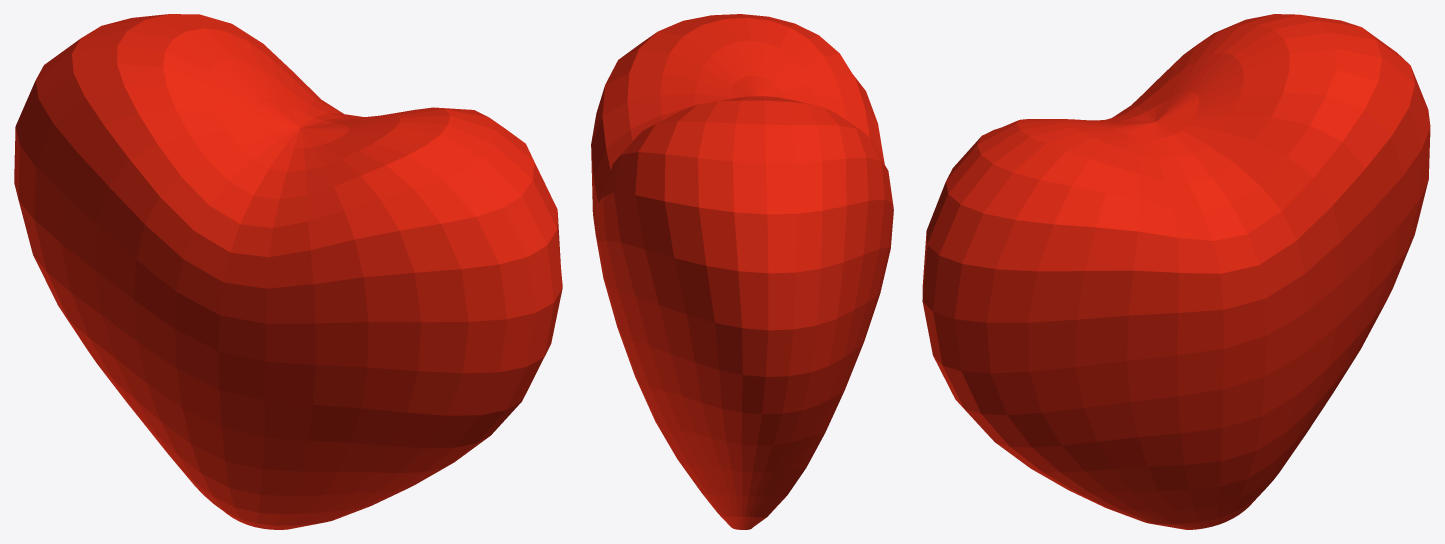
The model's file is Corazon.fbx.
The picture shows the model from 3 angles, left to right: view 1: azimuth 30°, elevation 25°; view 2: azimuth 150°, elevation 25°; view 3: azimuth 270°, elevation 25°; orthographic projection. The views are drawn at different scales.
Visible parts, largest first — view 1: Corazon; view 2: Corazon; view 3: Corazon.
Part boxes in pixels (<box>): Corazon: <box>14,14,562,529</box>; Corazon: <box>591,14,893,529</box>; Corazon: <box>922,14,1430,529</box>.
Bounding box in the file's own units: 37.44 × 46.82 × 46.08.
